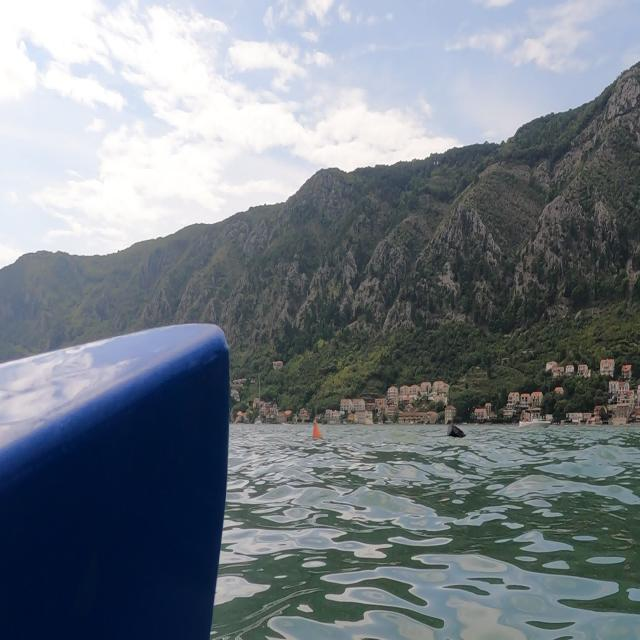buoy: (443, 415, 475, 449), (309, 412, 329, 448)
